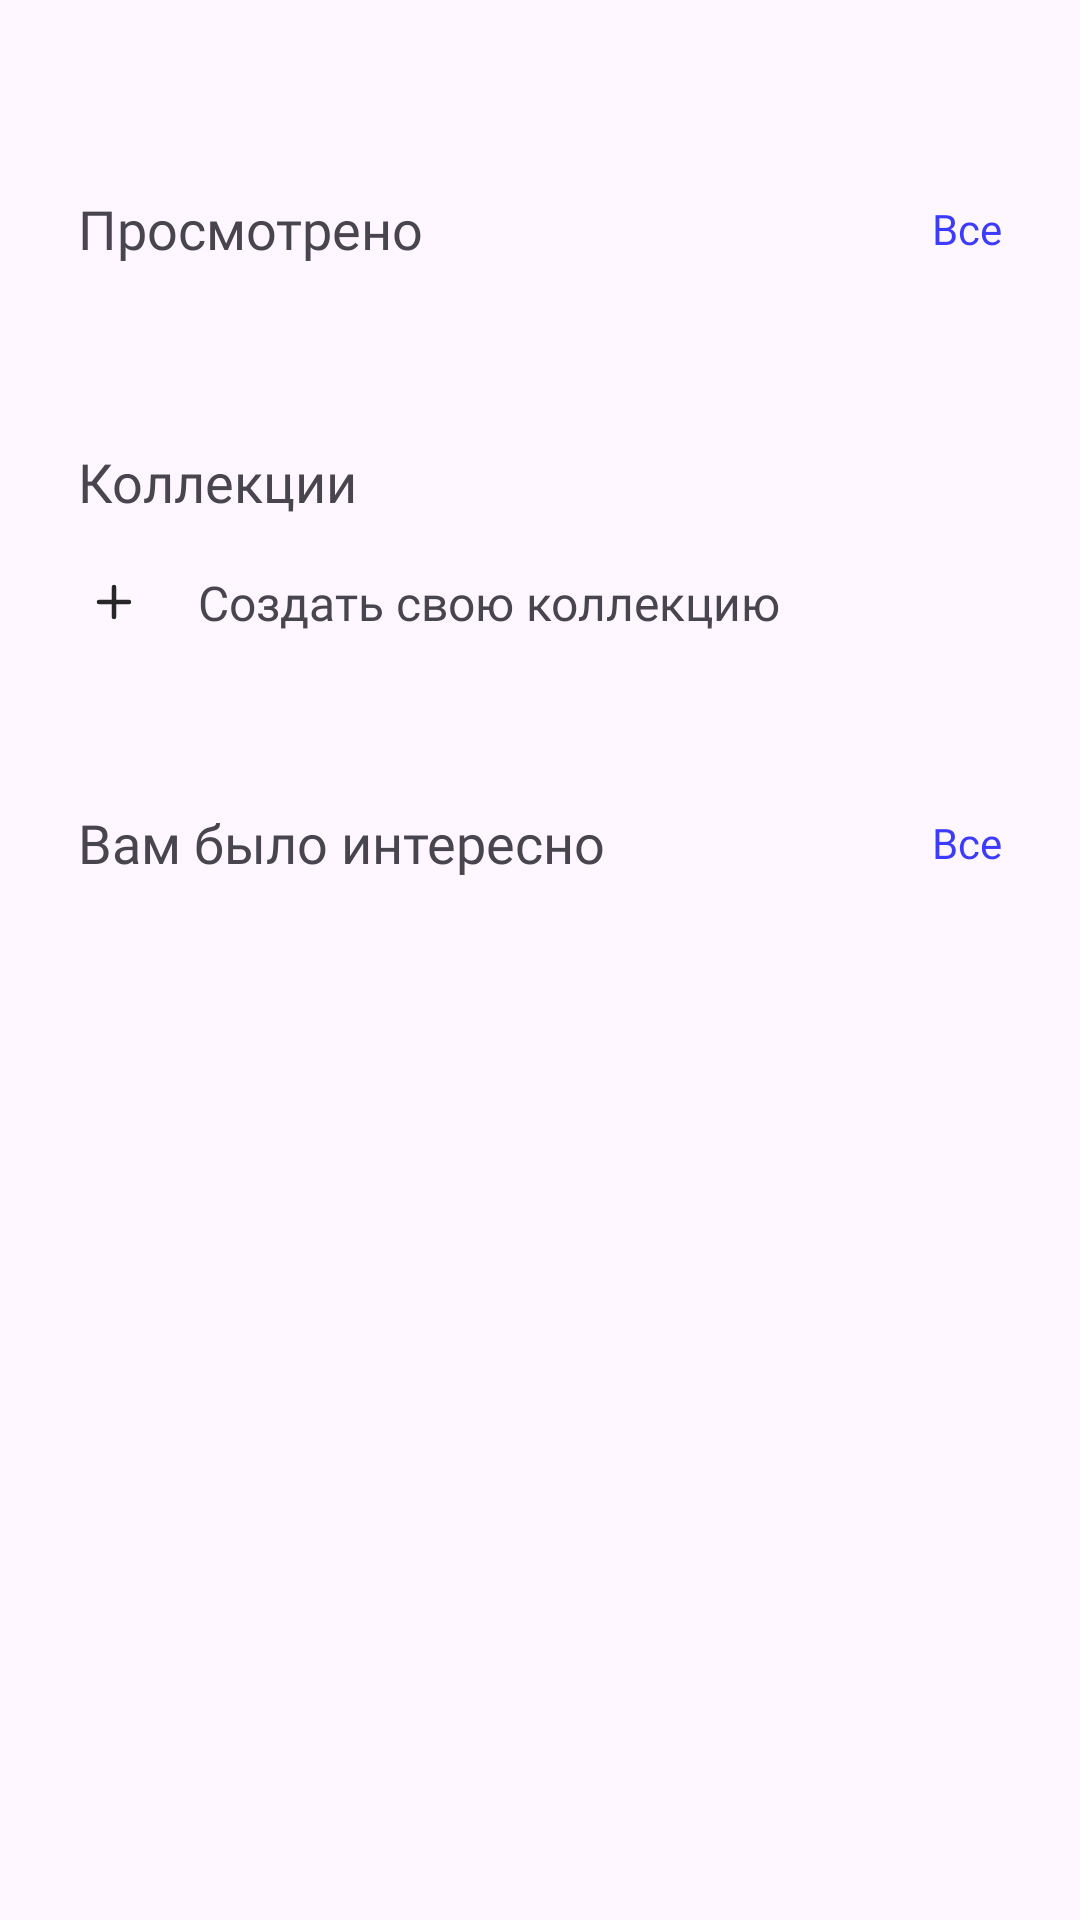

Named icons in this screenshot (1080px×1920px) and their bounding boxes, (x1, y1, x2, y2):
plus: (96, 584, 131, 620)
